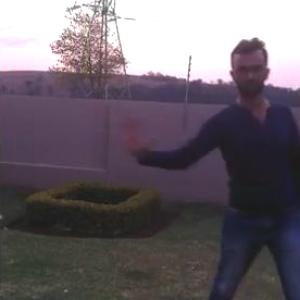follow_hand: (114, 106, 154, 158)
